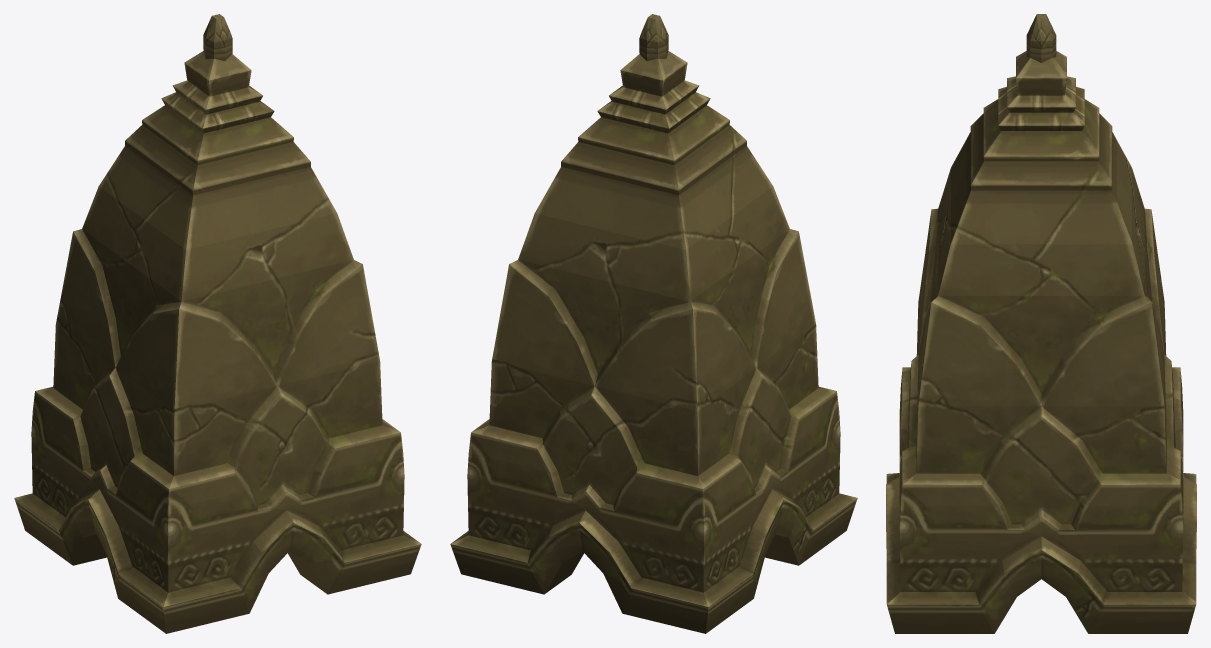
Rendered from temple_01.fbx.
The picture shows the model from 3 angles, left to right: view 1: azimuth 30°, elevation 25°; view 2: azimuth 150°, elevation 25°; view 3: azimuth 270°, elevation 25°; orthographic projection. The views are drawn at different scales.
Parts seen in each view (by area): view 1: obj0.053; view 2: obj0.053; view 3: obj0.053.
Boxes of the visible parts, bbox=[...] form: obj0.053: bbox=[14, 14, 421, 633]; obj0.053: bbox=[450, 14, 857, 633]; obj0.053: bbox=[886, 14, 1196, 633].
Bounding box in the file's own units: 6.3 × 12.44 × 6.3.
